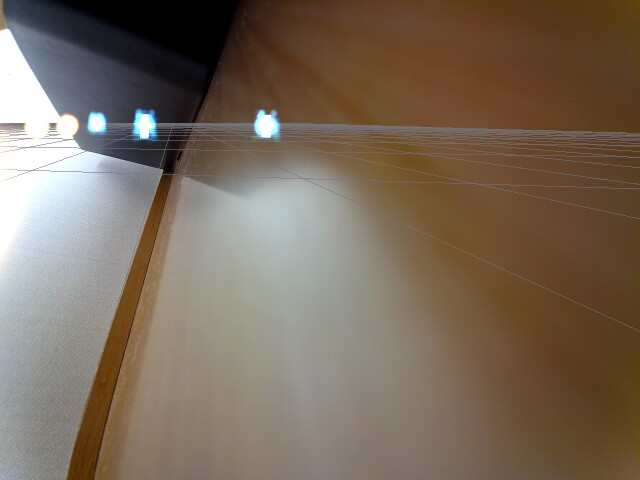firebig: (0, 119, 22, 268)
